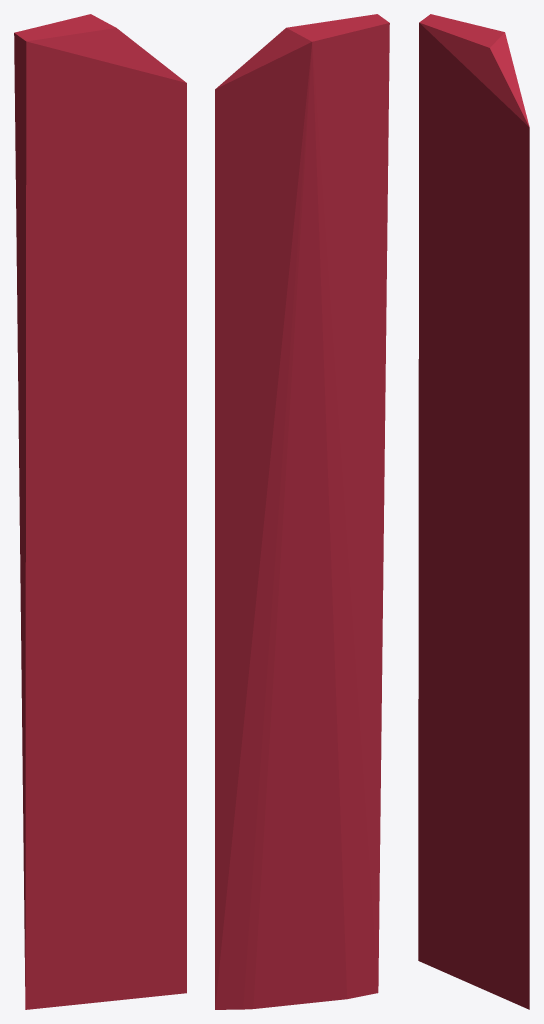
The model's file is simple_example_hole_part_5.obj.
3 renders of one model, left to right at view 1: azimuth 30°, elevation 25°; view 2: azimuth 210°, elevation 25°; view 3: azimuth 330°, elevation 25°, orthographic. The views are drawn at different scales.
Size of the model in its own units: 6.24 by 41.73 by 2.75.
